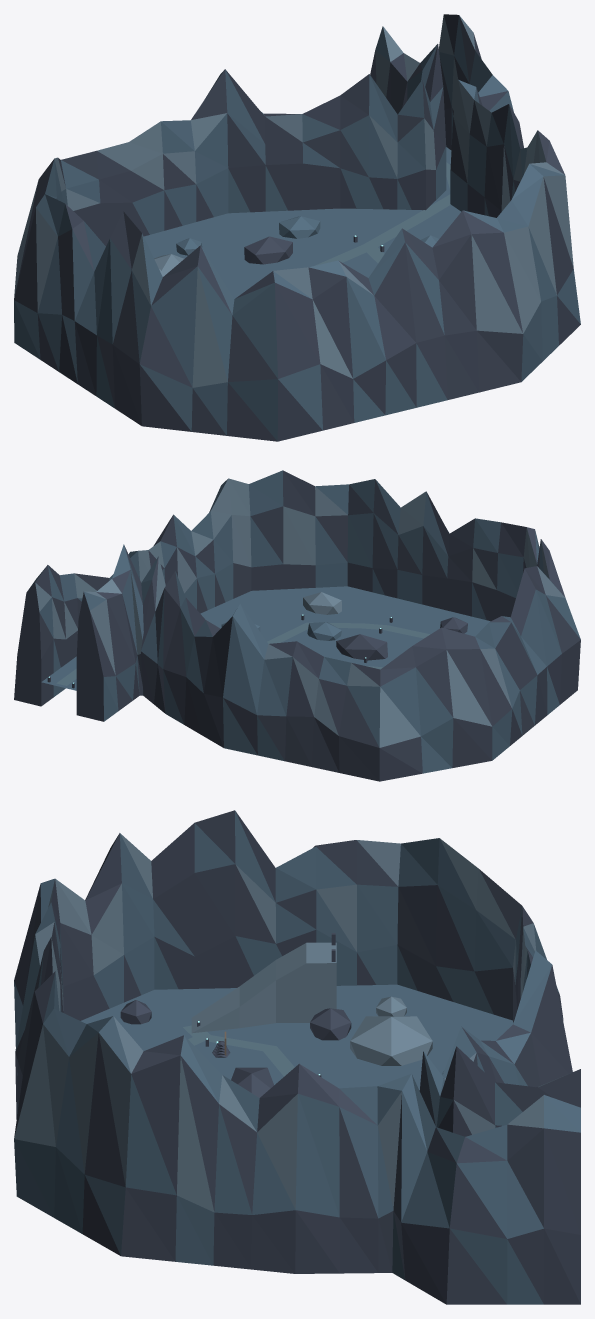
Rendered from listening_flats.glb.
The picture shows the model from 3 angles, top to bottom: view 1: azimuth 30°, elevation 25°; view 2: azimuth 150°, elevation 25°; view 3: azimuth 270°, elevation 25°; orthographic projection. The views are drawn at different scales.
Visible parts, largest first — view 1: Perimeter solid Listening Flats cliffs, Flats solid Floor, Polished wagon track, Flats solid Ice fin.001, Flats solid Ice fin; view 2: Perimeter solid Listening Flats cliffs, Flats solid Floor, Polished wagon track, Flats solid Ice fin.002, Flats solid Ice fin.006, Flats solid Ice fin.003; view 3: Perimeter solid Listening Flats cliffs, Flats solid Floor, Flats solid Charon overlook, Flats solid Ice fin.004, Flats solid Ice fin.005, Polished wagon track, Flats solid Ice fin.002.
Boxes of the visible parts, x1,y1,x2,y2 form: Perimeter solid Listening Flats cliffs: (14, 14, 580, 441); Flats solid Floor: (144, 147, 460, 298); Polished wagon track: (314, 162, 450, 265); Flats solid Ice fin.001: (244, 236, 292, 264); Flats solid Ice fin: (279, 216, 320, 238); Perimeter solid Listening Flats cliffs: (14, 470, 580, 781); Flats solid Floor: (41, 586, 490, 690); Polished wagon track: (56, 622, 429, 685); Flats solid Ice fin.002: (336, 634, 387, 660); Flats solid Ice fin.006: (303, 592, 341, 614); Flats solid Ice fin.003: (307, 622, 341, 640); Perimeter solid Listening Flats cliffs: (14, 810, 580, 1304); Flats solid Floor: (81, 984, 513, 1090); Flats solid Charon overlook: (191, 942, 336, 1033); Flats solid Ice fin.004: (350, 1016, 432, 1065); Flats solid Ice fin.005: (310, 1008, 351, 1040); Polished wagon track: (188, 1033, 294, 1076); Flats solid Ice fin.002: (231, 1067, 273, 1097).
Size of the model in its own units: 119 by 38.43 by 93.31.
